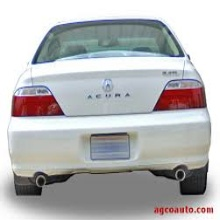no damage: (8, 19, 212, 198)
